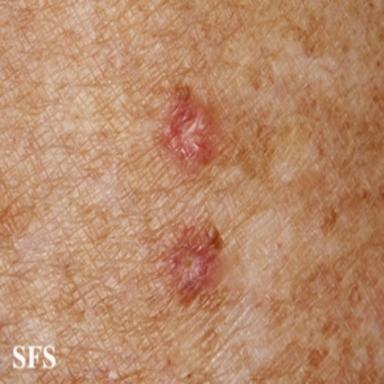Porokeratosis: (156, 86, 220, 174), (160, 221, 223, 303)
